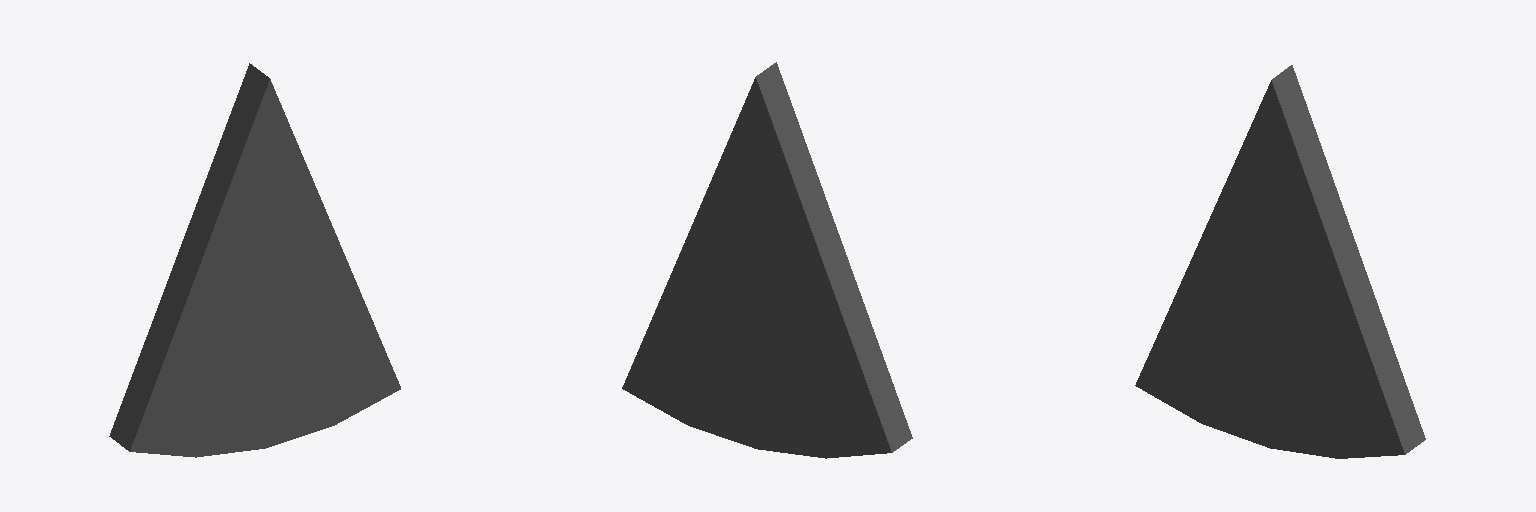
Rendered from NudgeRotation.obj.
The picture shows the model from 3 angles: view 1: azimuth 30°, elevation 25°; view 2: azimuth 150°, elevation 25°; view 3: azimuth 330°, elevation 25°; orthographic projection.
Visible parts, largest first — view 1: NudgeRotation_Arrow; view 2: NudgeRotation_Arrow; view 3: NudgeRotation_Arrow.
Part boxes in pixels (bbox=[...]): NudgeRotation_Arrow: bbox=[109, 63, 400, 457]; NudgeRotation_Arrow: bbox=[622, 62, 912, 458]; NudgeRotation_Arrow: bbox=[1135, 65, 1425, 458].
Size of the model in its own units: 0.0752 by 0.0982 by 0.0109.